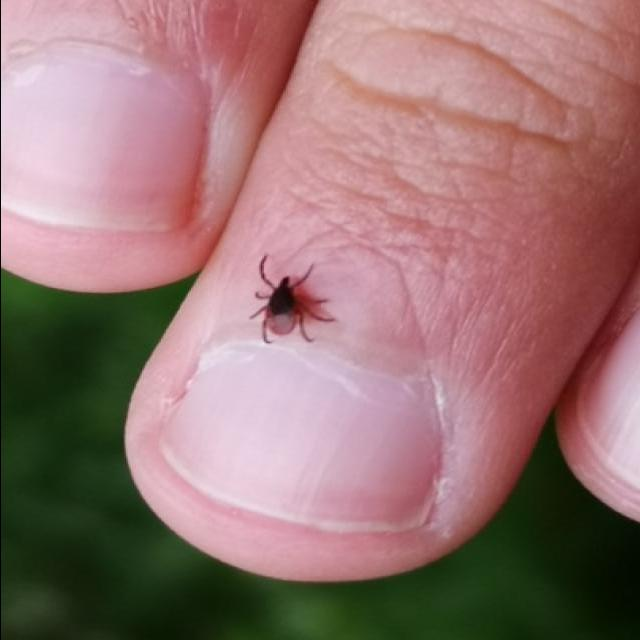Ixodes Ricinus-F: (250, 248, 337, 348)
